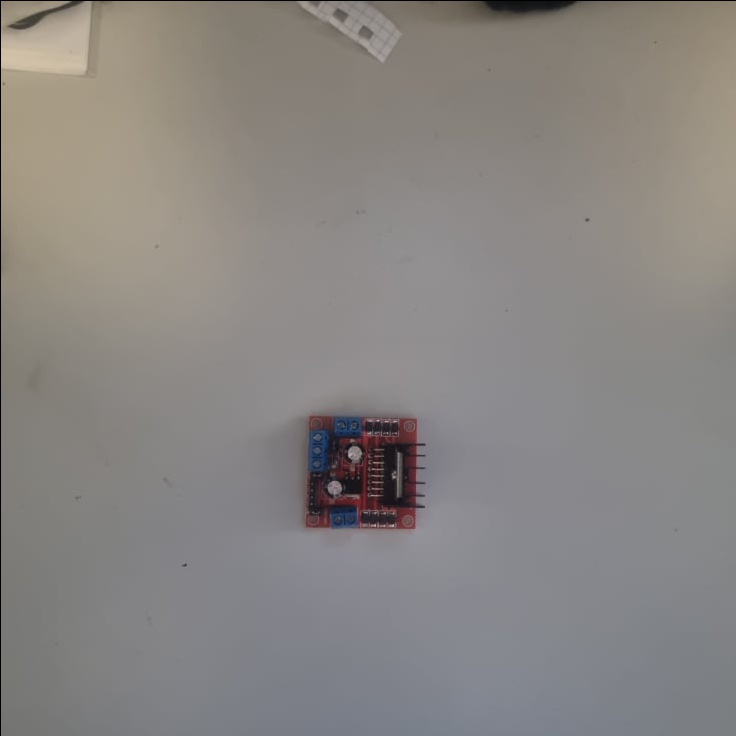MOTOR: (305, 409, 425, 530)
